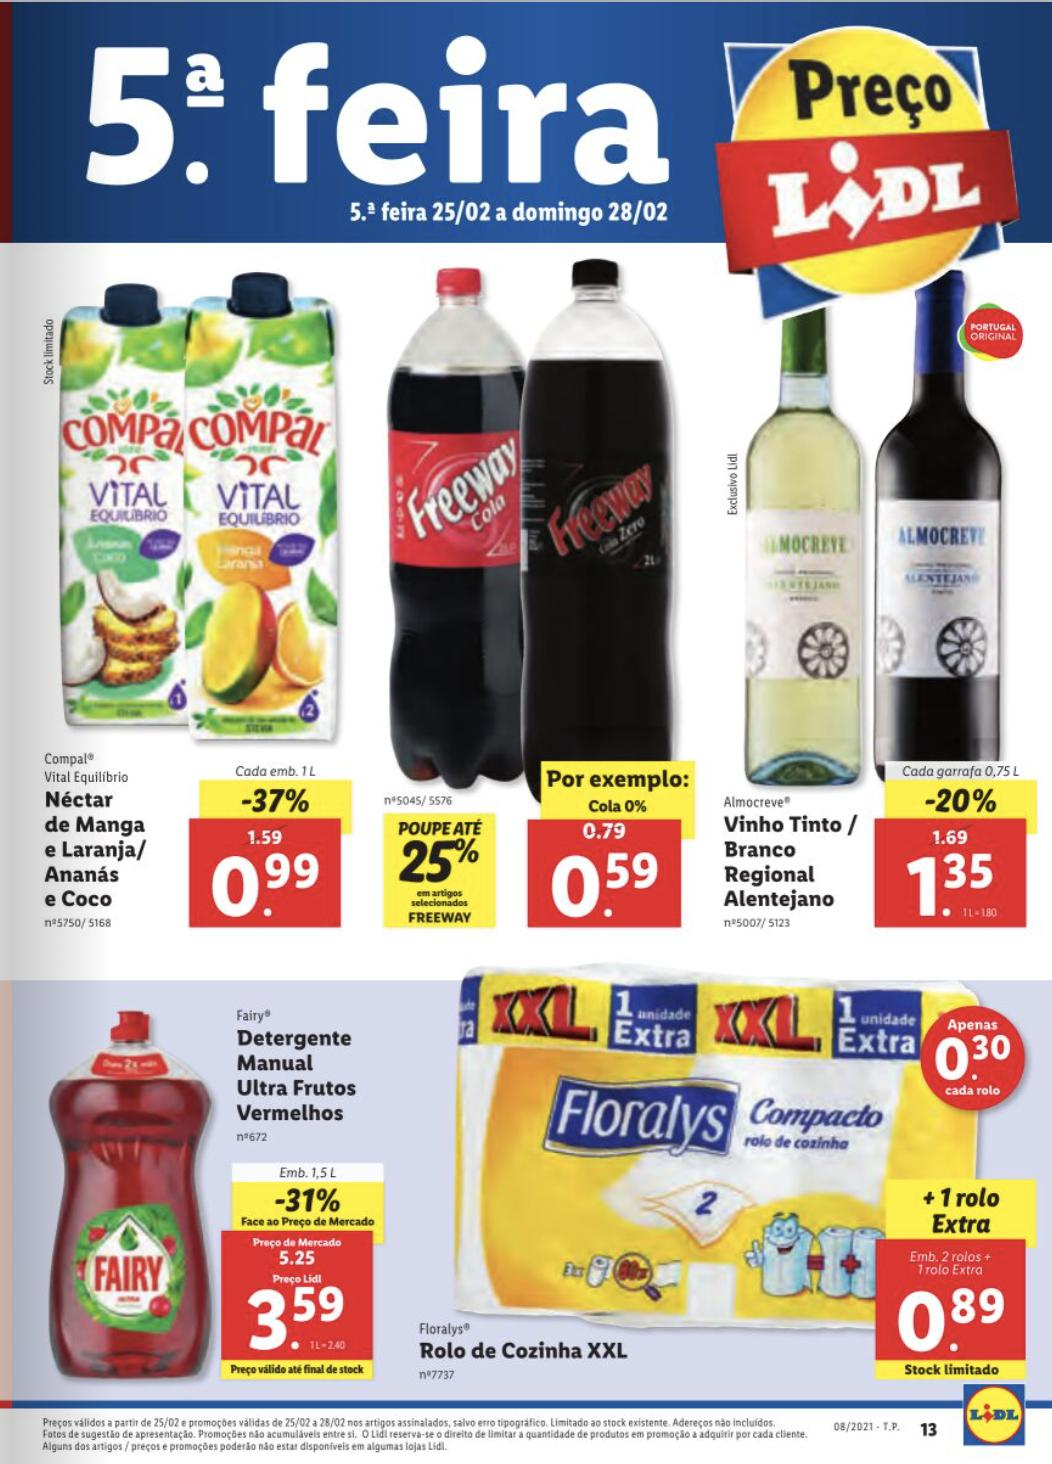name: (723, 812, 862, 910), (235, 1026, 367, 1126), (44, 789, 153, 907), (409, 1338, 638, 1364)
price: (235, 1276, 347, 1362), (546, 847, 662, 924), (204, 851, 324, 924), (896, 1278, 1007, 1355), (904, 845, 996, 920)
product: (384, 970, 1052, 1391), (20, 256, 353, 966), (367, 255, 698, 956), (720, 282, 1044, 945), (30, 989, 384, 1391)
promotion: (396, 835, 484, 887), (235, 782, 318, 816), (918, 787, 1004, 818), (269, 1186, 344, 1216)
